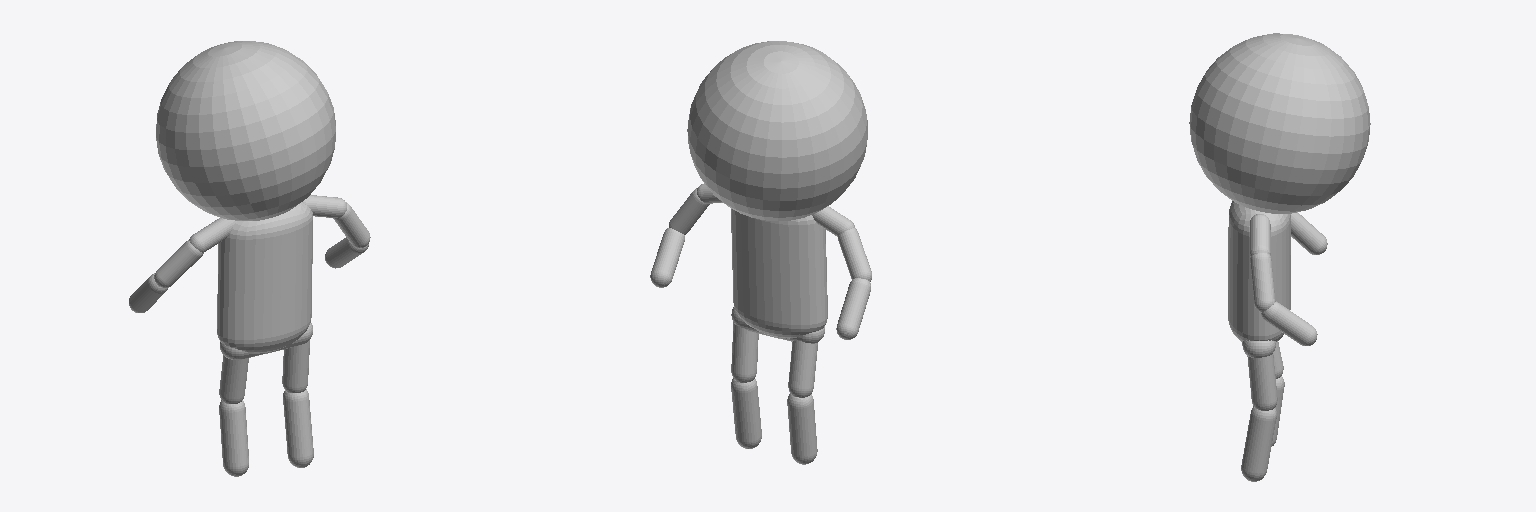
Rendered from Stickman_000060.obj.
The picture shows the model from 3 angles: view 1: azimuth 30°, elevation 25°; view 2: azimuth 150°, elevation 25°; view 3: azimuth 270°, elevation 25°; orthographic projection.
Parts seen in each view (by area): view 1: Head_Sphere.001, Body_Roundcube.002, LowerLegLeft_Roundcube.013, LowerLegRight_Roundcube.011, UpperLegLeft_Roundcube.012, UpperLegRight_Roundcube.010, UpperArmRight_Roundcube.015, ShoulderRight_Roundcube.014, UpperArmLeft_Roundcube.018, LowerArmRight_Roundcube.016, ShoulderLeft_Roundcube.017, LowerArmLeft_Roundcube.019 (+1 smaller); view 2: Head_Sphere.001, Body_Roundcube.002, LowerLegRight_Roundcube.011, LowerLegLeft_Roundcube.013, UpperLegRight_Roundcube.010, LowerArmRight_Roundcube.016, UpperLegLeft_Roundcube.012, LowerArmLeft_Roundcube.019, UpperArmRight_Roundcube.015, UpperArmLeft_Roundcube.018, ShoulderRight_Roundcube.014; view 3: Head_Sphere.001, Body_Roundcube.002, LowerLegLeft_Roundcube.013, UpperLegLeft_Roundcube.012, LowerArmLeft_Roundcube.019, UpperArmLeft_Roundcube.018, LowerArmRight_Roundcube.016, ShoulderLeft_Roundcube.017.
Part boxes in pixels (bbox=[...]): Head_Sphere.001: bbox=[156, 41, 335, 220]; Body_Roundcube.002: bbox=[217, 202, 312, 353]; LowerLegLeft_Roundcube.013: bbox=[283, 389, 313, 467]; LowerLegRight_Roundcube.011: bbox=[219, 400, 248, 476]; UpperLegLeft_Roundcube.012: bbox=[282, 340, 309, 392]; UpperLegRight_Roundcube.010: bbox=[219, 355, 248, 403]; UpperArmRight_Roundcube.015: bbox=[154, 240, 203, 287]; ShoulderRight_Roundcube.014: bbox=[189, 218, 236, 252]; UpperArmLeft_Roundcube.018: bbox=[333, 202, 370, 247]; LowerArmRight_Roundcube.016: bbox=[129, 273, 167, 312]; ShoulderLeft_Roundcube.017: bbox=[303, 195, 346, 217]; LowerArmLeft_Roundcube.019: bbox=[325, 237, 368, 268]; Head_Sphere.001: bbox=[687, 41, 867, 220]; Body_Roundcube.002: bbox=[731, 209, 827, 338]; LowerLegRight_Roundcube.011: bbox=[787, 393, 817, 464]; LowerLegLeft_Roundcube.013: bbox=[731, 378, 761, 448]; UpperLegRight_Roundcube.010: bbox=[788, 340, 817, 397]; LowerArmRight_Roundcube.016: bbox=[836, 278, 870, 339]; UpperLegLeft_Roundcube.012: bbox=[731, 322, 758, 382]; LowerArmLeft_Roundcube.019: bbox=[650, 228, 684, 287]; UpperArmRight_Roundcube.015: bbox=[838, 228, 871, 281]; UpperArmLeft_Roundcube.018: bbox=[669, 188, 709, 234]; ShoulderRight_Roundcube.014: bbox=[812, 206, 854, 236]; Head_Sphere.001: bbox=[1189, 33, 1370, 213]; Body_Roundcube.002: bbox=[1228, 201, 1290, 341]; LowerLegLeft_Roundcube.013: bbox=[1241, 406, 1276, 481]; UpperLegLeft_Roundcube.012: bbox=[1247, 354, 1277, 410]; LowerArmLeft_Roundcube.019: bbox=[1261, 301, 1317, 345]; UpperArmLeft_Roundcube.018: bbox=[1250, 253, 1275, 312]; LowerArmRight_Roundcube.016: bbox=[1291, 212, 1327, 254]; ShoulderLeft_Roundcube.017: bbox=[1250, 214, 1270, 256].
Size of the model in its own units: 6.67 by 12.4 by 4.87.